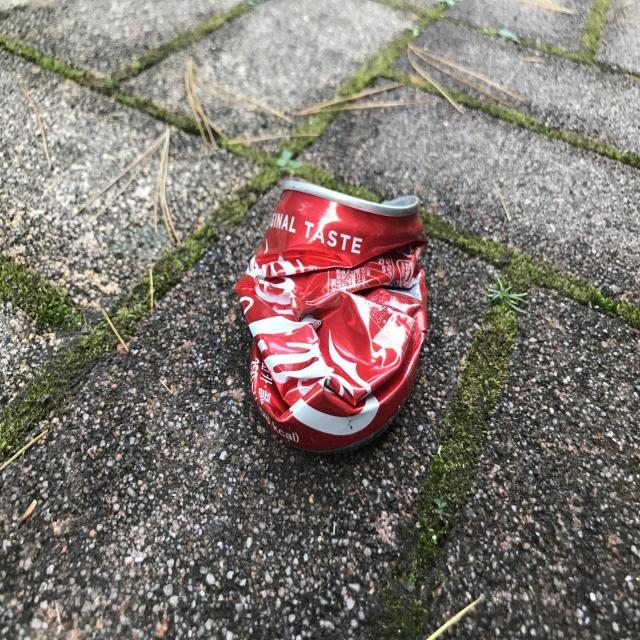can: (235, 180, 427, 452)
